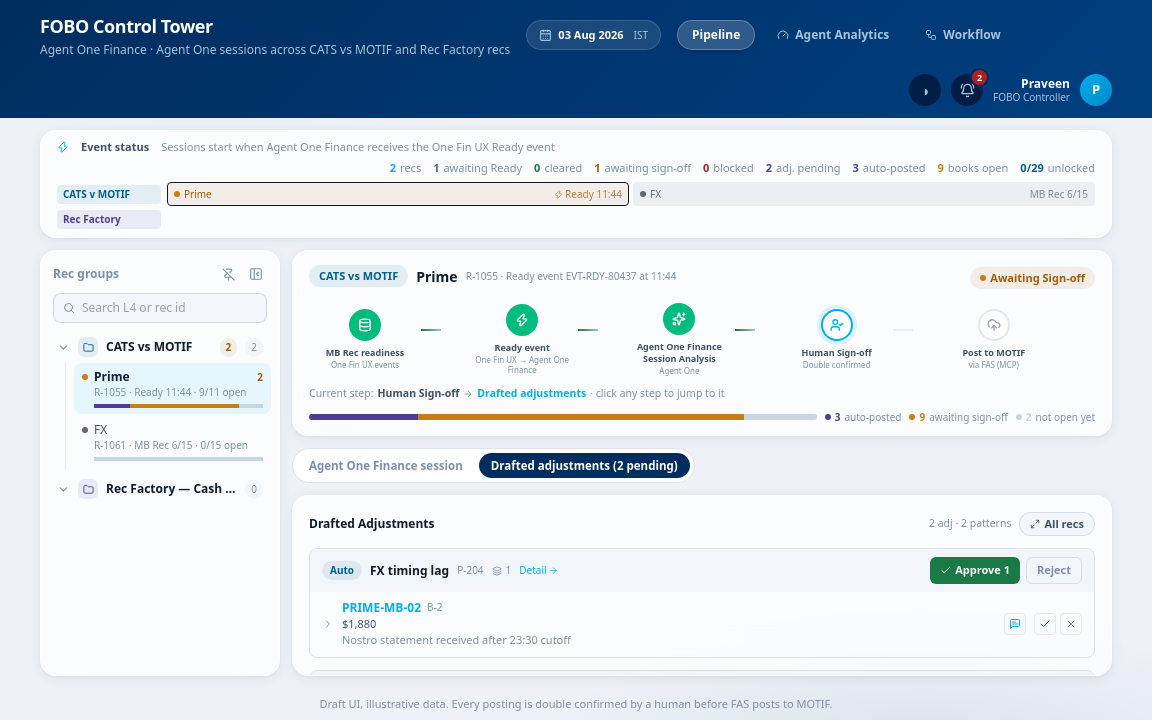
Scenario: ConsoleApp › opens the Workflow tab
Expected: the text "FOBO Controller" is shown, [993,91,1070,104]
Expected: the tab "Drafted adjustments (2 pending)" is shown, [479,452,690,478]
Click the button "Workflow": (963, 35) [911,21,1015,49]
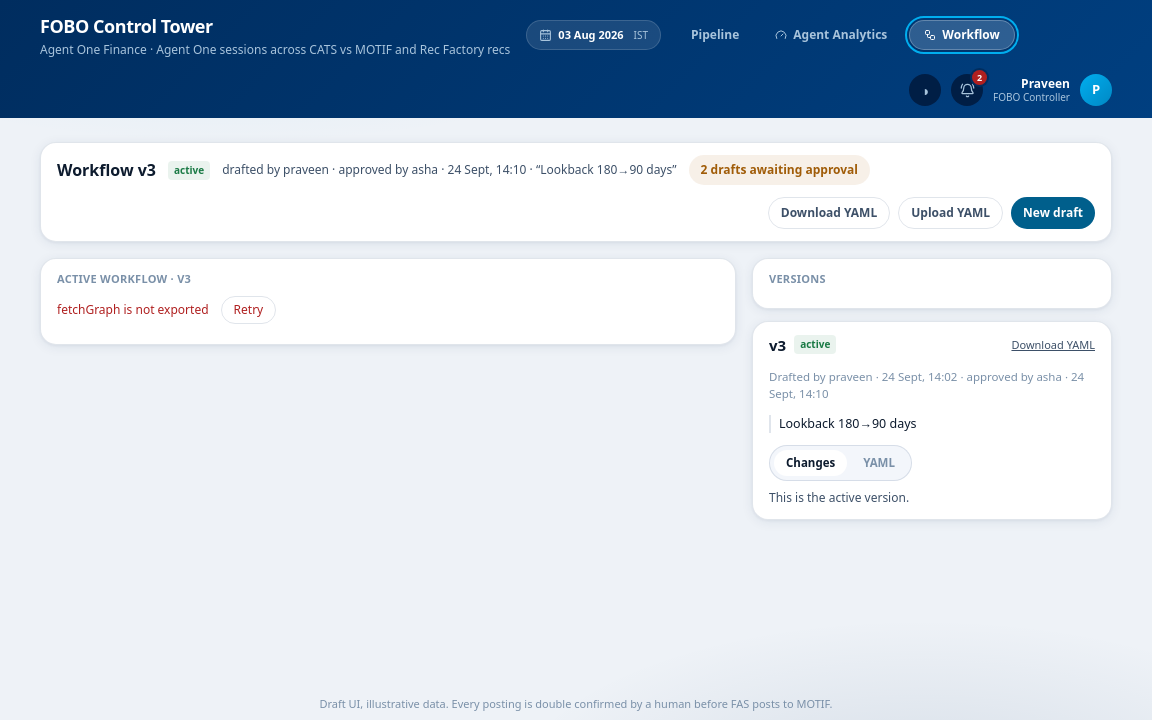
Expected: the text "Workflow v3" is shown, [57,158,156,182]
